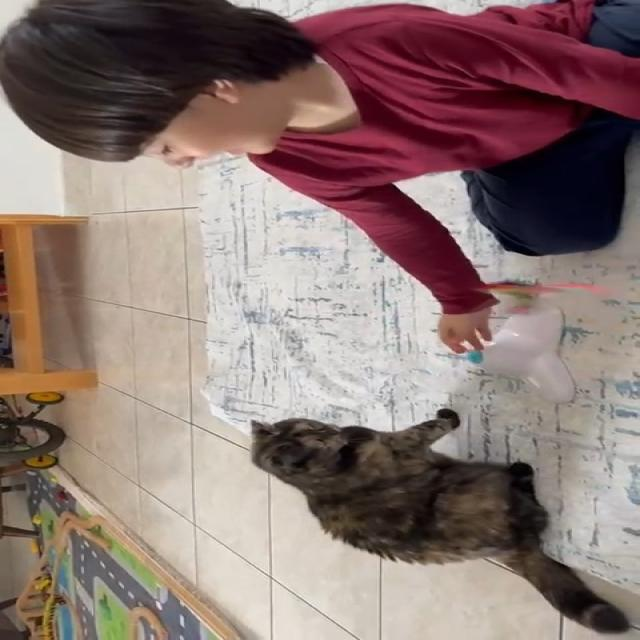authorized: (248, 408, 629, 633)
